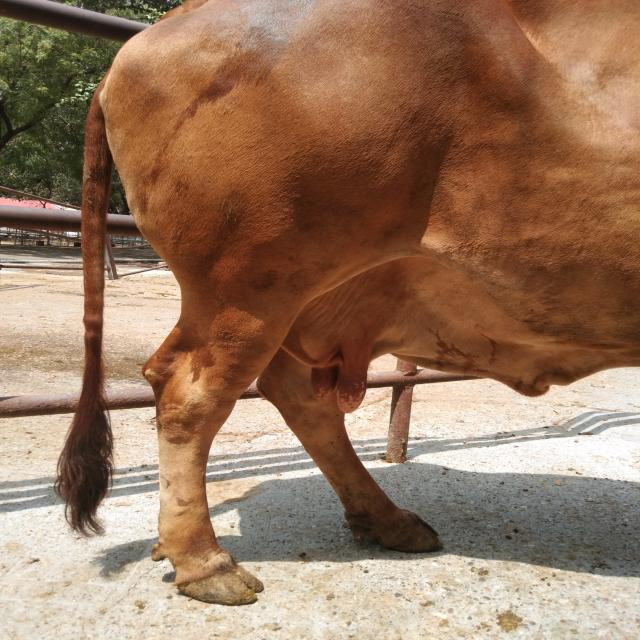Hoof: (346, 509, 443, 554), (174, 558, 264, 606)
